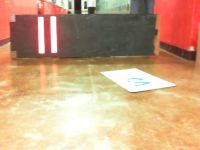switch: (37, 17, 45, 55), (50, 16, 57, 54)
